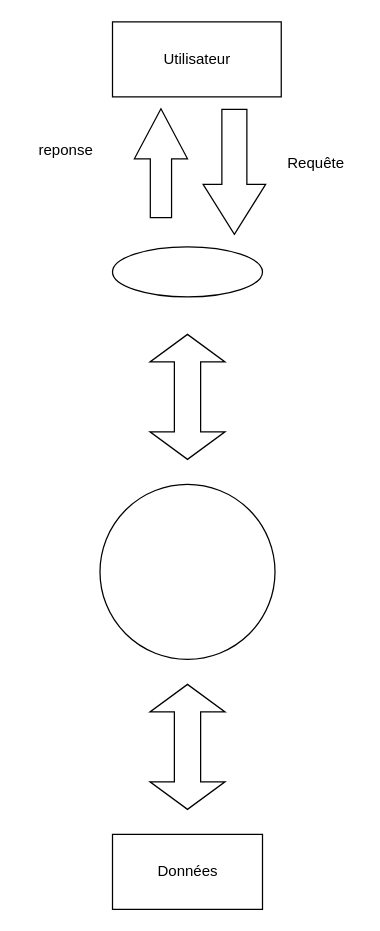
This 380x931 diagram has some shape labels left out. Here are the shapes that lost their labels. From the top down, the box of each, then its label:
(111, 246, 262, 297): site web (Google, wikipédia)
(99, 483, 275, 659): Server
